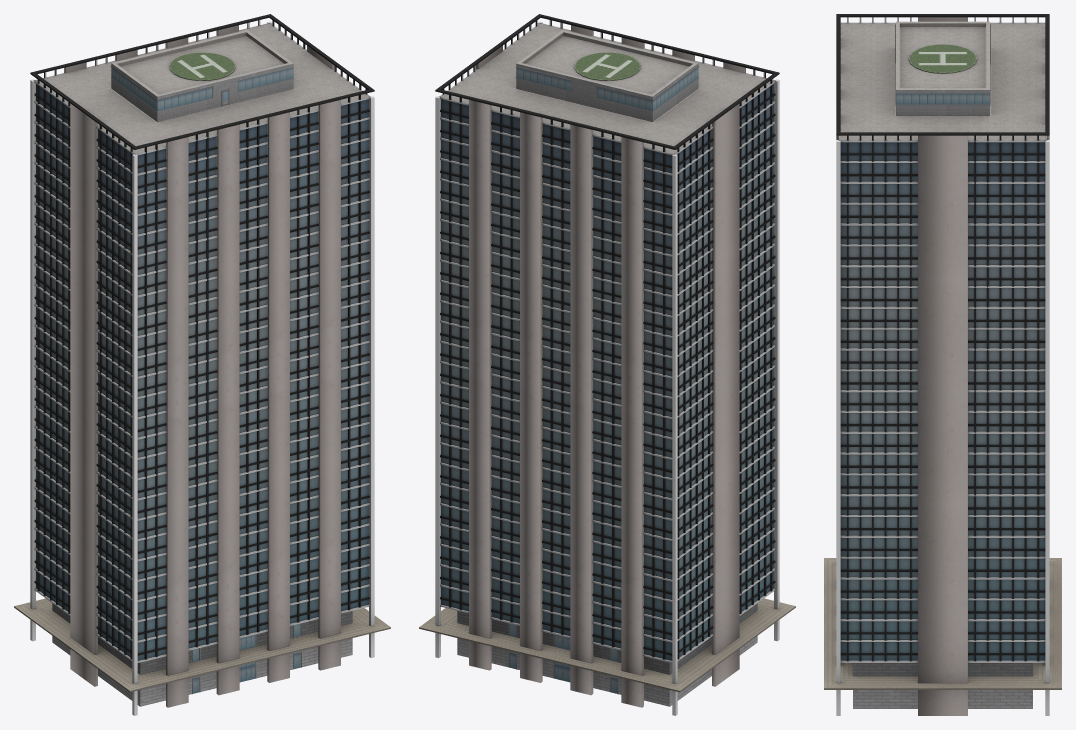
3 views of the same model, side by side, from view 1: azimuth 30°, elevation 25°; view 2: azimuth 150°, elevation 25°; view 3: azimuth 270°, elevation 25° (orthographic). The views are drawn at different scales.
Visible parts, largest first — view 1: MainBuilding; view 2: MainBuilding; view 3: MainBuilding.
Boxes of the visible parts, x1=… form: MainBuilding: x1=14, y1=14, x2=390, y2=715; MainBuilding: x1=419, y1=14, x2=795, y2=715; MainBuilding: x1=824, y1=14, x2=1061, y2=715.
Size of the model in its own units: 3.77 by 8.07 by 2.9.
1 material, 1 textured.
